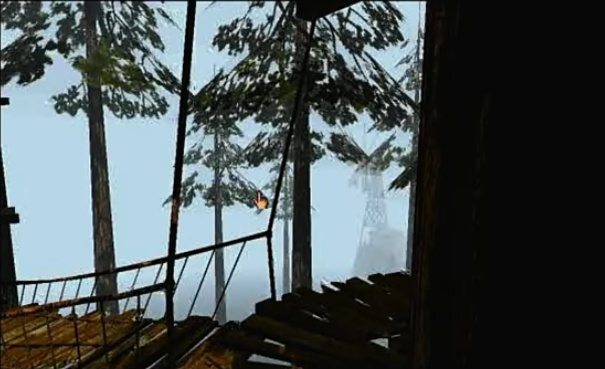Pointer: (249, 188, 272, 212)
